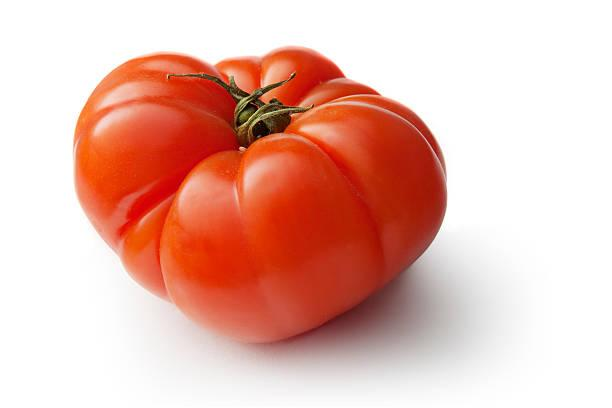Tomato: (68, 41, 449, 339)
